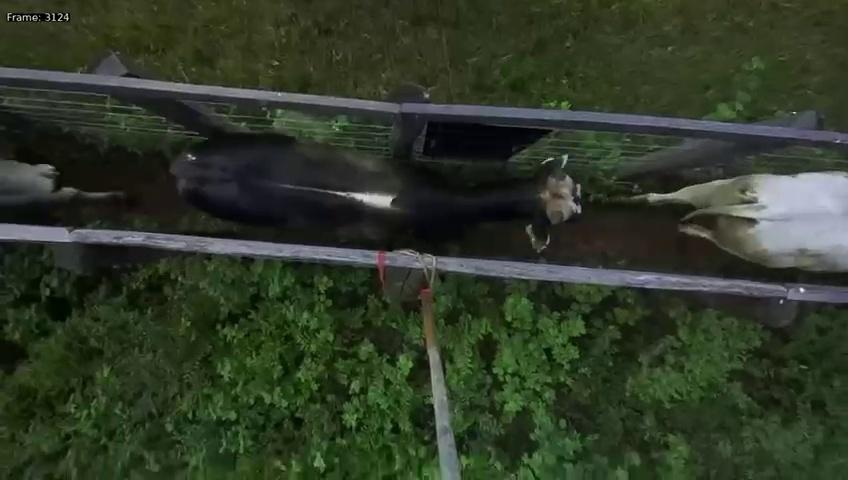cattle: (167, 124, 590, 260)
